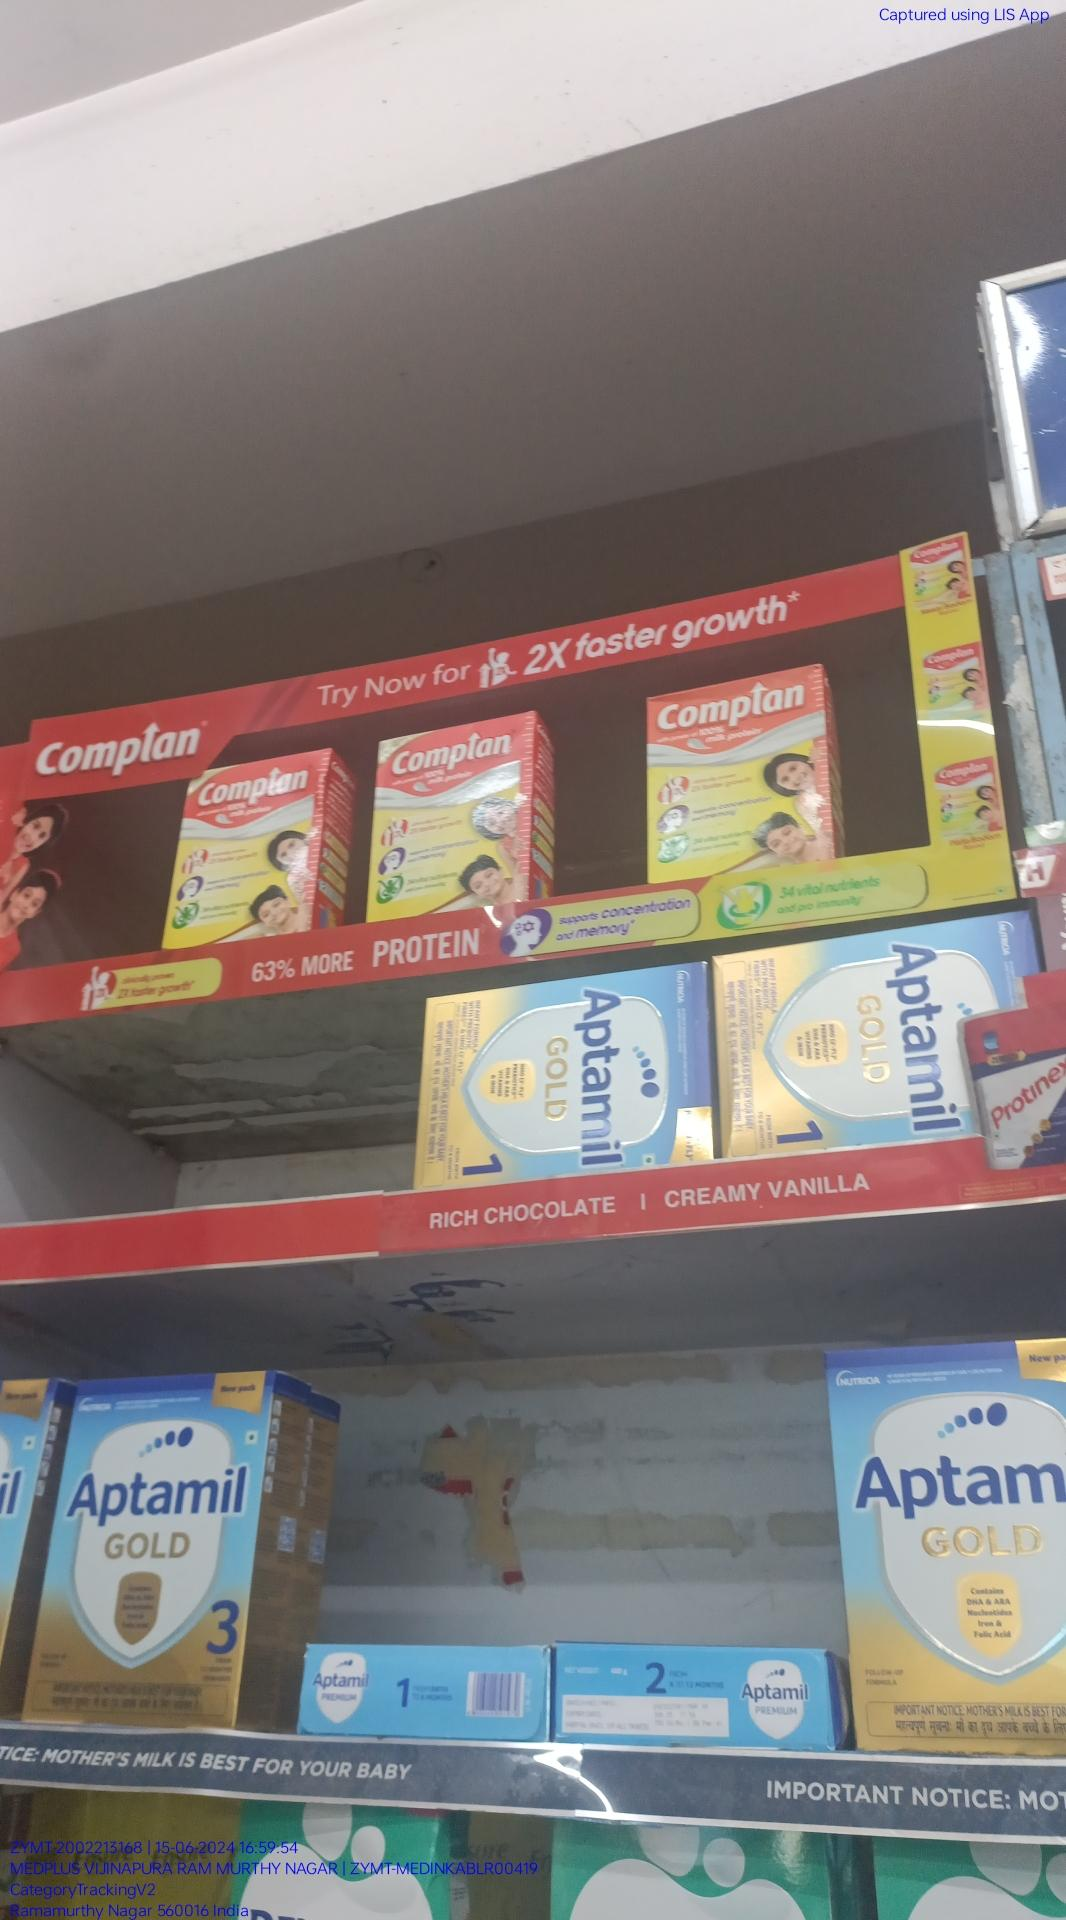COMPLAN_KESAR_BADAM_500_GMS_PACK: (642, 689, 822, 882), (375, 730, 529, 916), (173, 755, 312, 938)
